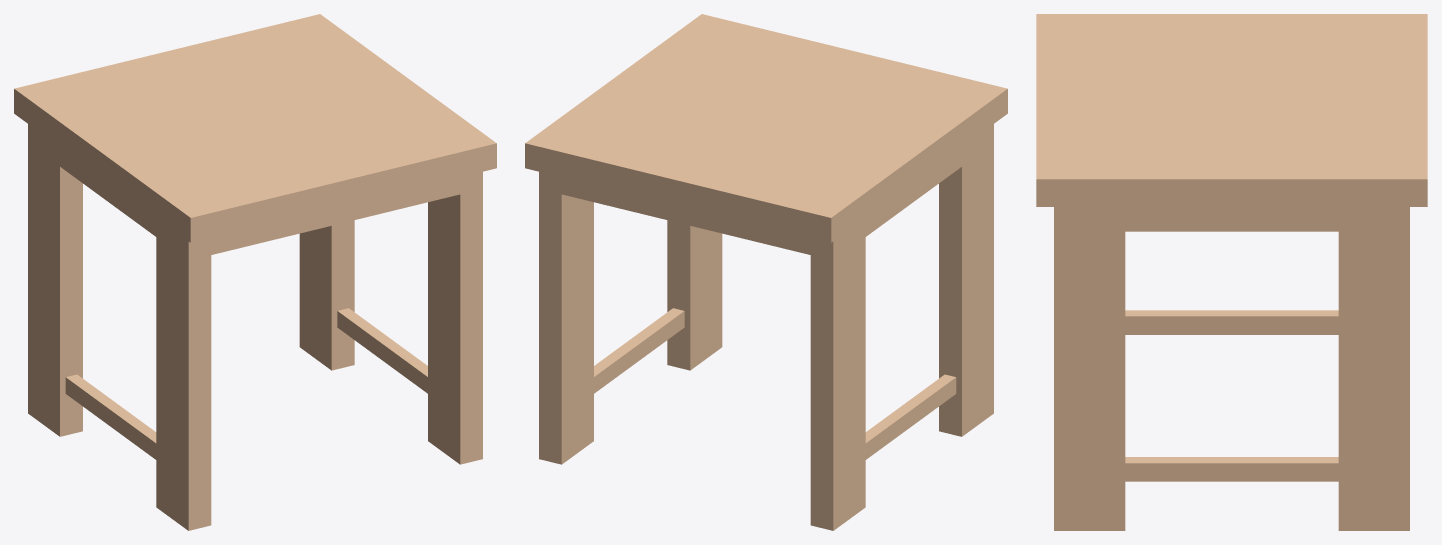
Rendered from kn-side-table.glb.
The picture shows the model from 3 angles, left to right: view 1: azimuth 30°, elevation 25°; view 2: azimuth 150°, elevation 25°; view 3: azimuth 270°, elevation 25°; orthographic projection. The views are drawn at different scales.
Visible parts, largest first — view 1: sideTable(Clone); view 2: sideTable(Clone); view 3: sideTable(Clone).
Boxes of the visible parts, <box> form: sideTable(Clone): <box>14,14,496,530</box>; sideTable(Clone): <box>525,14,1007,530</box>; sideTable(Clone): <box>1036,14,1427,530</box>.
Size of the model in its own units: 1 by 1 by 1.
